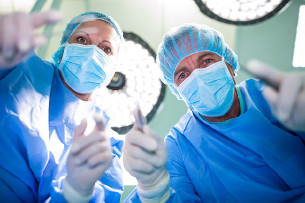face_mask: (177, 54, 233, 117), (60, 30, 114, 94)
